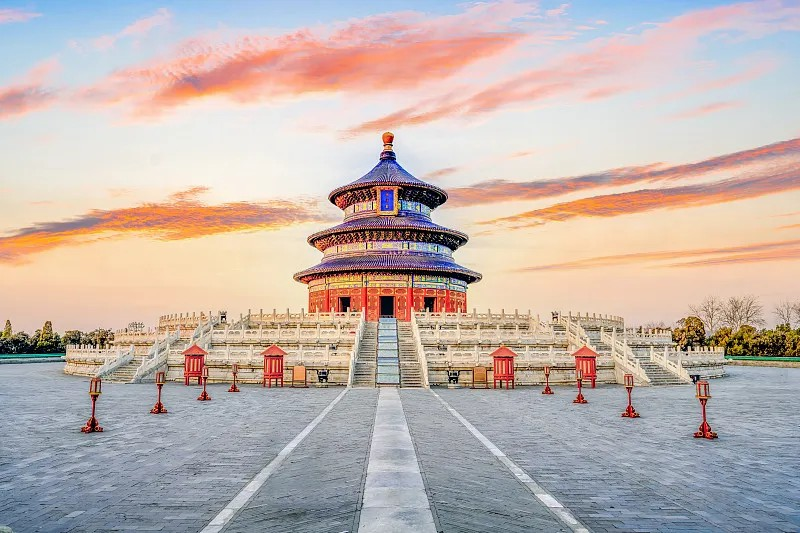Heaven: (293, 133, 482, 323)
